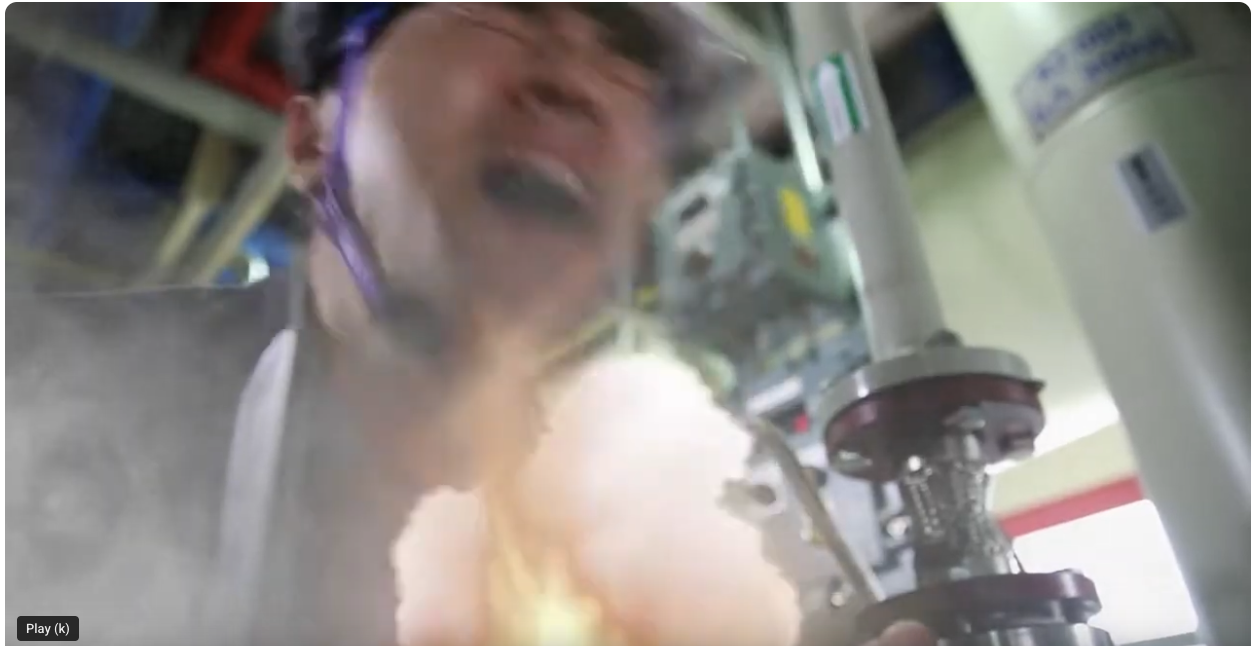smoke: (373, 323, 842, 646)
